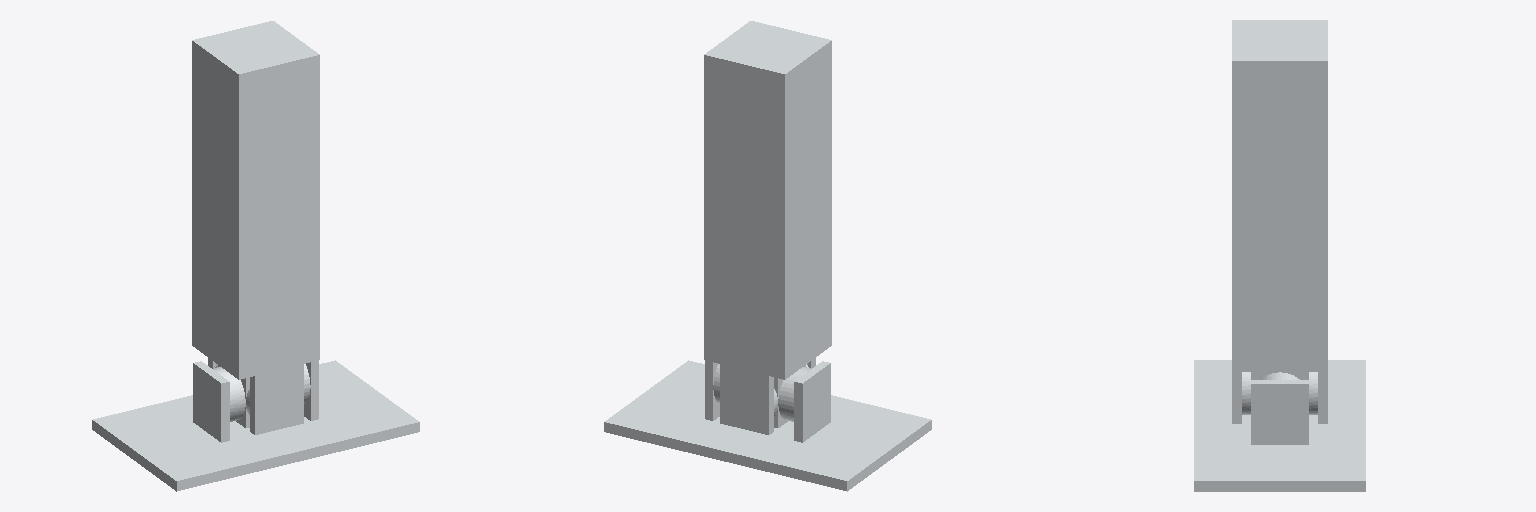
robot.urdf — toetoe:
<robot name="toetoe">
  <link name="world"/>
  <joint name="virtual" type="floating">
    <origin xyz="0 0 0" rpy="0 0 0"/>
    <parent link="world"/>
    <child link="base_link"/>
  </joint>

  <link name="base_link">
    <inertial>
      <origin xyz="0 0 -0.092451" rpy="0 0 0" />
      <mass value="1.2434" />
      <inertia
        ixx="0.0038711"
        ixy="-1.3084E-20"
        ixz="-4.8472E-20"
        iyy="0.0038588"
        iyz="1.6148E-19"
        izz="0.00052279" />
    </inertial>
    <visual>
      <origin
        xyz="0 0 0"
        rpy="0 0 0" />
      <geometry>
        <mesh
          filename="package://toetoe_description/meshes/base_link.stl" />
      </geometry>
      <material
        name="">
        <color
          rgba="0.89804 0.91765 0.92941 1" />
      </material>
    </visual>
    <collision>
      <origin
        xyz="0 0 0"
        rpy="0 0 0" />
      <geometry>
        <mesh
          filename="package://toetoe_description/meshes/base_link.stl" />
      </geometry>
    </collision>
  </link>
  
  <joint
    name="ankle_pitch"
    type="revolute">
    <origin
      xyz="0 0 -0.2"
      rpy="0 0 0" />
    <parent
      link="base_link" />
    <child
      link="ankle_link" />
    <axis
      xyz="0 1 0" />
    <limit
      lower="-3.14"
      upper="3.14"
      effort="30"
      velocity="1" />
  </joint>

  <link name="ankle_link">
    <inertial>
      <origin
        xyz="0 0 0"
        rpy="0 0 0" />
      <mass
        value="0.13016" />
      <inertia
        ixx="2.2187E-05"
        ixy="-6.7632E-23"
        ixz="3.662E-22"
        iyy="3.0815E-05"
        iyz="-5.7445E-22"
        izz="3.5626E-05" />
    </inertial>
    <visual>
      <origin
        xyz="0 0 0"
        rpy="0 0 0" />
      <geometry>
        <mesh
          filename="package://toetoe_description/meshes/ankle_link.stl" />
      </geometry>
      <material
        name="">
        <color
          rgba="0.89804 0.91765 0.92941 1" />
      </material>
    </visual>
    <collision>
      <origin
        xyz="0 0 0"
        rpy="0 0 0" />
      <geometry>
        <mesh
          filename="package://toetoe_description/meshes/ankle_link.stl" />
      </geometry>
    </collision>
  </link>
  
  <joint
    name="ankle_roll"
    type="revolute">
    <origin
      xyz="0 0 0"
      rpy="0 0 0" />
    <parent
      link="ankle_link" />
    <child
      link="foot_link" />
    <axis
      xyz="1 0 0" />
    <limit
      lower="-3.14"
      upper="3.14"
      effort="30"
      velocity="1" />
  </joint>

  <link
    name="foot_link">
    <inertial>
      <origin
        xyz="0 0 -0.020648"
        rpy="0 0 0" />
      <mass
        value="0.24705" />
      <inertia
        ixx="0.00016385"
        ixy="4.8738E-20"
        ixz="-4.0406E-20"
        iyy="0.00044566"
        iyz="6.6009E-21"
        izz="0.00058131" />
    </inertial>
    <visual>
      <origin
        xyz="0 0 0"
        rpy="0 0 0" />
      <geometry>
        <mesh
          filename="package://toetoe_description/meshes/foot_link.stl" />
      </geometry>
      <material
        name="">
        <color
          rgba="0.89804 0.91765 0.92941 1" />
      </material>
    </visual>
    <collision>
      <origin
        xyz="0 0 0"
        rpy="0 0 0" />
      <geometry>
        <mesh
          filename="package://toetoe_description/meshes/foot_link.stl" />>
      </geometry>
    </collision>
  </link>
  
</robot>

--- Render facts (derived) ---
3 views of the same robot in one strip: view 1: azimuth 30°, elevation 25°; view 2: azimuth 150°, elevation 25°; view 3: azimuth 270°, elevation 25° (orthographic).
Robot: toetoe — 4 links, 3 joints (2 revolute, 1 floating); root link world; default pose: all joints at 0.
Links seen in each view (by area): view 1: base_link, foot_link, ankle_link; view 2: base_link, foot_link, ankle_link; view 3: base_link, foot_link, ankle_link.
Boxes of the visible links, x1,y1,x2,y2 form: base_link: [192, 21, 319, 434]; foot_link: [92, 360, 419, 491]; ankle_link: [213, 364, 310, 427]; base_link: [704, 21, 831, 434]; foot_link: [604, 360, 931, 491]; ankle_link: [713, 364, 810, 427]; base_link: [1232, 20, 1327, 423]; foot_link: [1194, 360, 1365, 491]; ankle_link: [1242, 372, 1317, 414].
Bounding box of the posed robot: 0.15 × 0.09 × 0.226 m (x, y, z).
3 mesh visuals loaded from 3 distinct referenced files (3 binary STL).